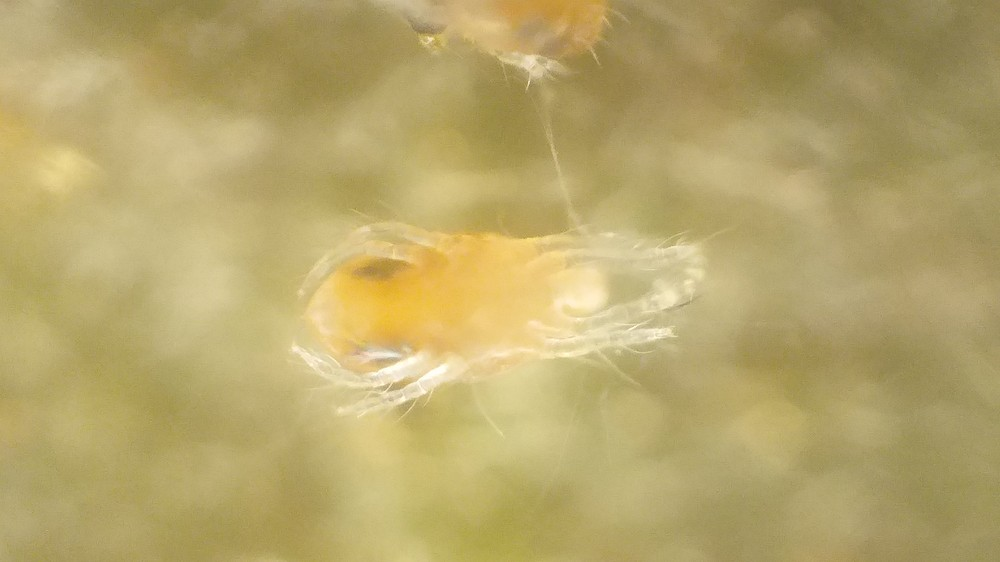Aracnido Rojo: (281, 195, 716, 421)
